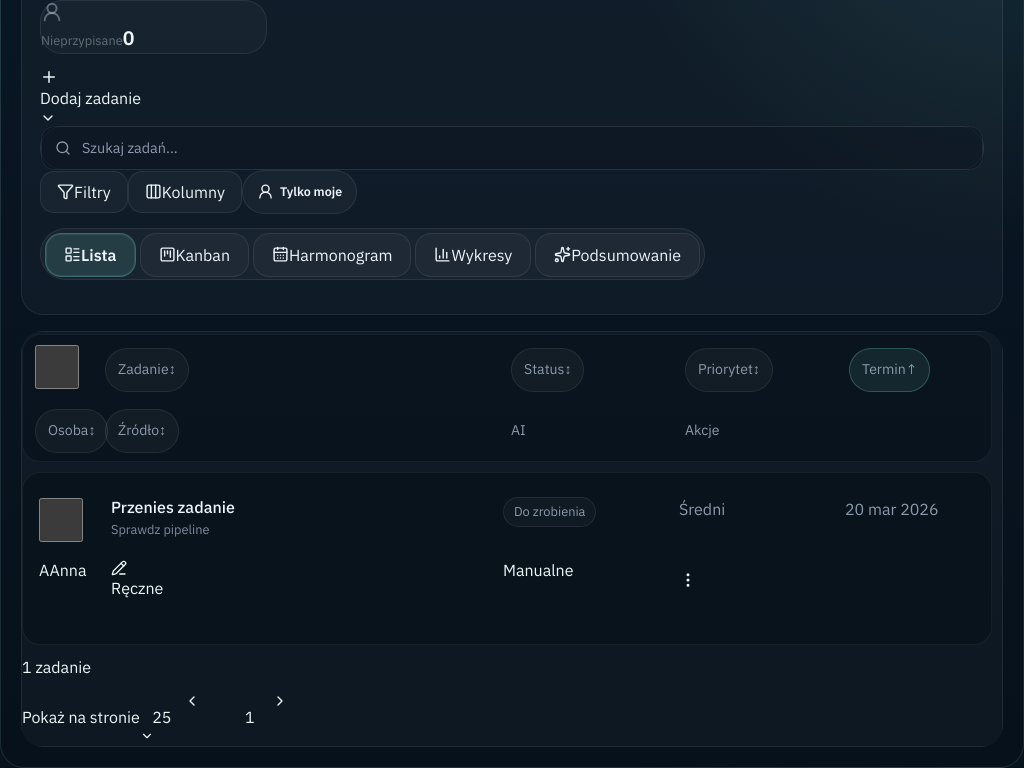
TasksTab › opens task preview in the same wide modal form shell as creation
The width and height of the screenshot is (1024, 768).
(page scrolled)
Click the text "Przenies zadanie" at (173, 507), box [111,497,235,517]
(page scrolled)
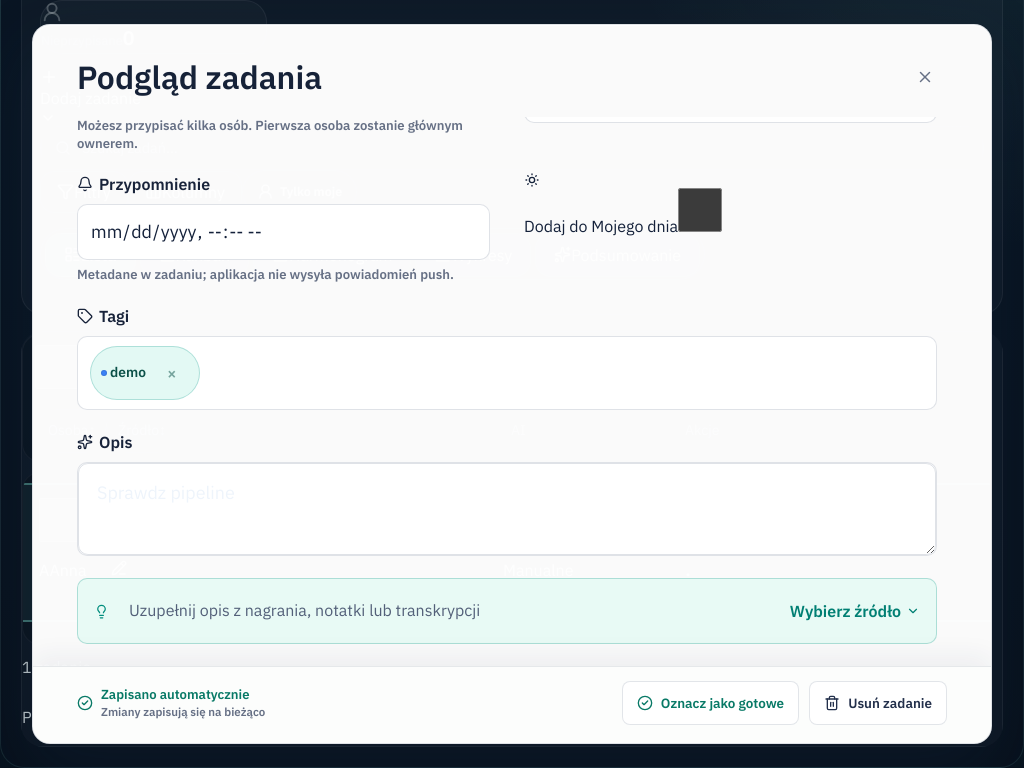
Now the text "Tagi" is shown, box [77,306,129,326]
Now the text "Opis" is shown, box [77,432,132,452]
